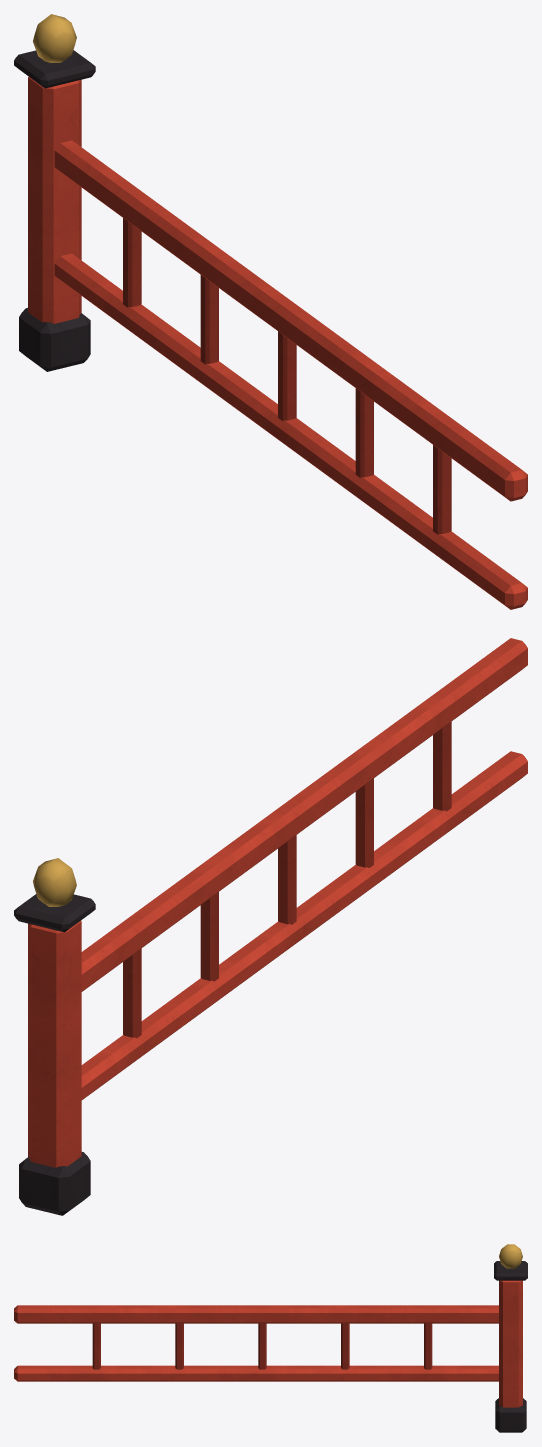
Rendered from env_fence.glb.
3 renders of one model, top to bottom at view 1: azimuth 30°, elevation 25°; view 2: azimuth 150°, elevation 25°; view 3: azimuth 270°, elevation 25°, orthographic. The views are drawn at different scales.
Visible parts, largest first — view 1: fence_rails, fence_post; view 2: fence_rails, fence_post; view 3: fence_rails, fence_post.
Boxes of the visible parts, <box> form: fence_rails: <box>54,140,527,609</box>; fence_post: <box>14,14,95,371</box>; fence_rails: <box>81,638,527,1099</box>; fence_post: <box>14,858,95,1215</box>; fence_rails: <box>14,1305,498,1381</box>; fence_post: <box>494,1244,527,1432</box>.
Bounding box in the file's own units: 0.24 × 1.43 × 3.62.
1 material, 1 textured.
